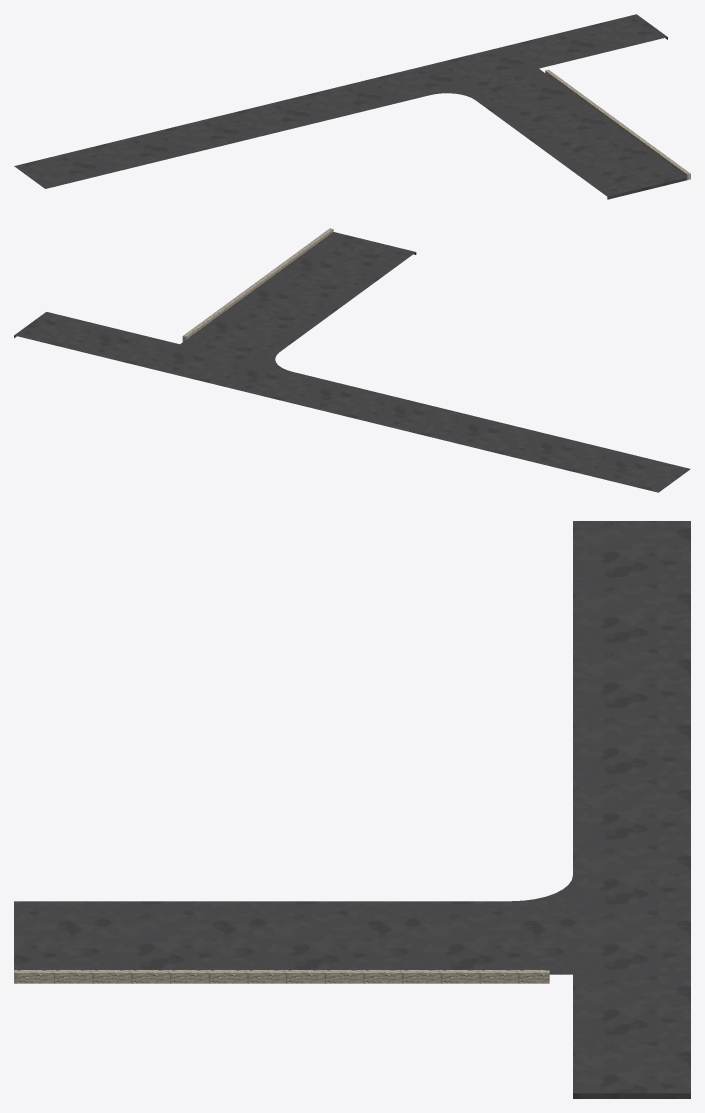
The model's file is SM_Molo_Pav_Strada.fbx.
3 views of the same model, one above another, from view 1: azimuth 30°, elevation 25°; view 2: azimuth 150°, elevation 25°; view 3: azimuth 270°, elevation 25° (orthographic). The views are drawn at different scales.
Parts seen in each view (by area): view 1: SM_Molo_Pav_Strada; view 2: SM_Molo_Pav_Strada; view 3: SM_Molo_Pav_Strada.
Part boxes in pixels (<box>): SM_Molo_Pav_Strada: <box>14,14,690,199</box>; SM_Molo_Pav_Strada: <box>14,228,690,492</box>; SM_Molo_Pav_Strada: <box>14,521,690,1098</box>.
Size of what is drawn, in the model's own units: 3500 by 1750 by 30.
2 materials, 2 textured.
